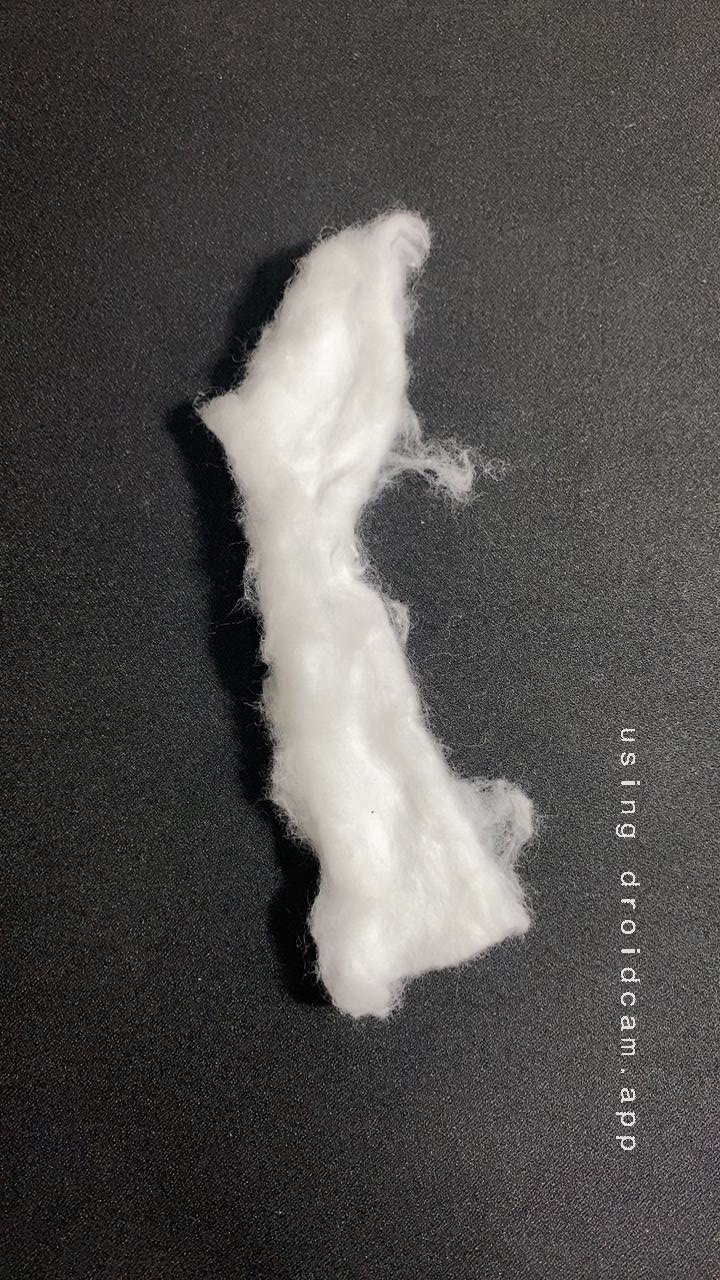cotton: (163, 189, 573, 866)
